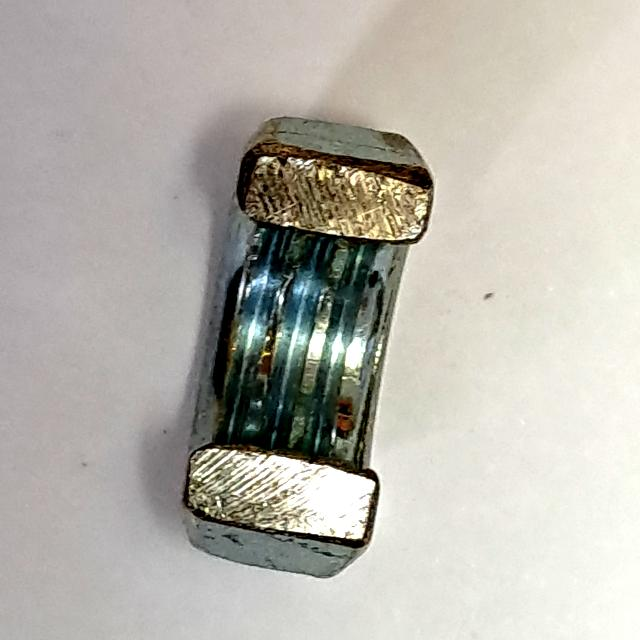Side-Fracture: (169, 100, 445, 589)
